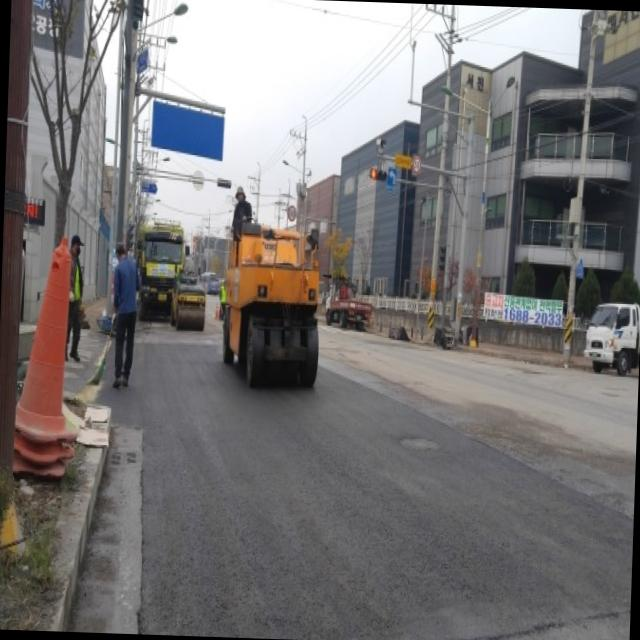asphalt: (100, 321, 638, 640)
cement: (47, 405, 142, 634)
white-sand: (0, 452, 83, 630)
